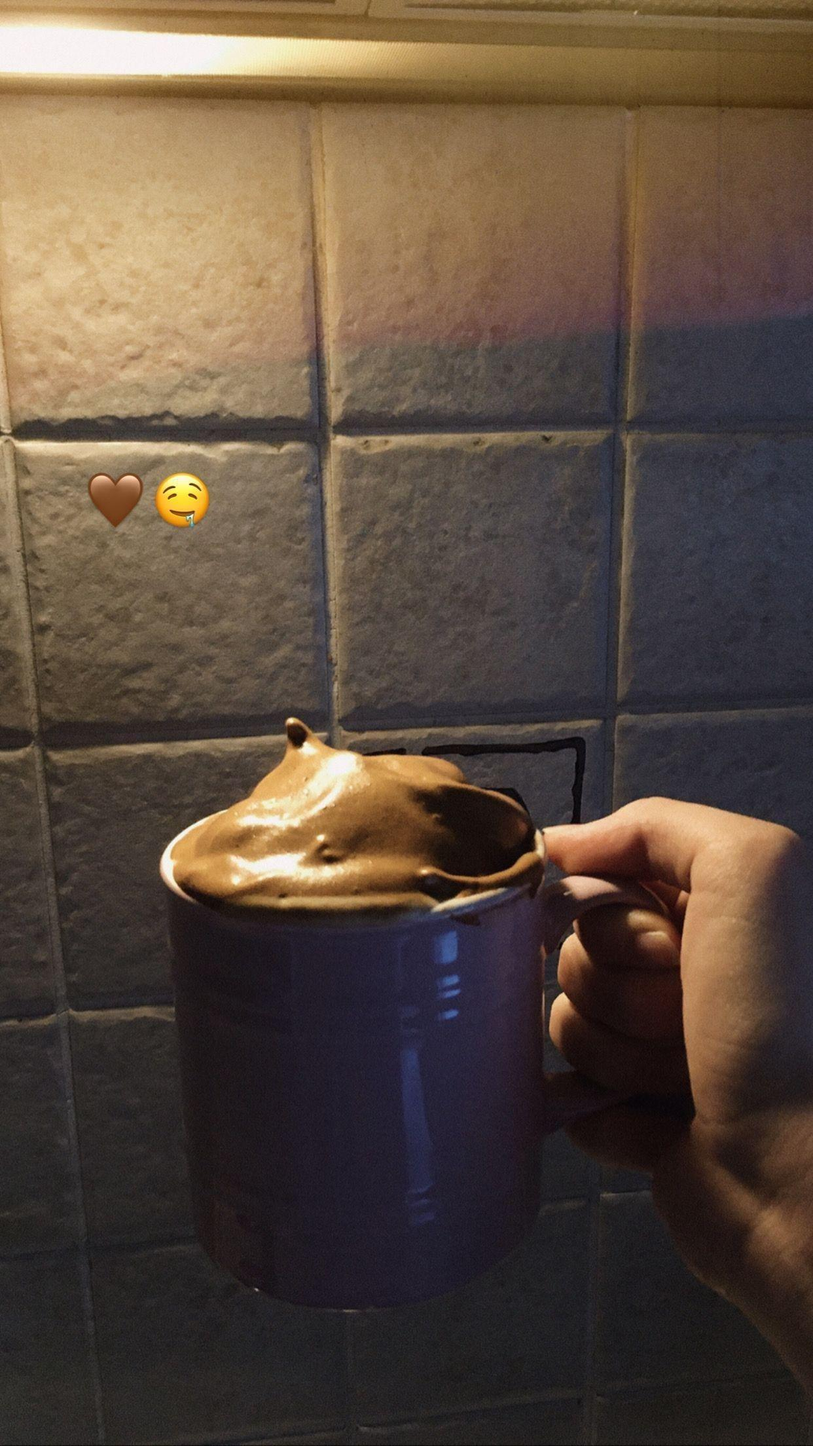cup-handle: (157, 759, 676, 1315)
